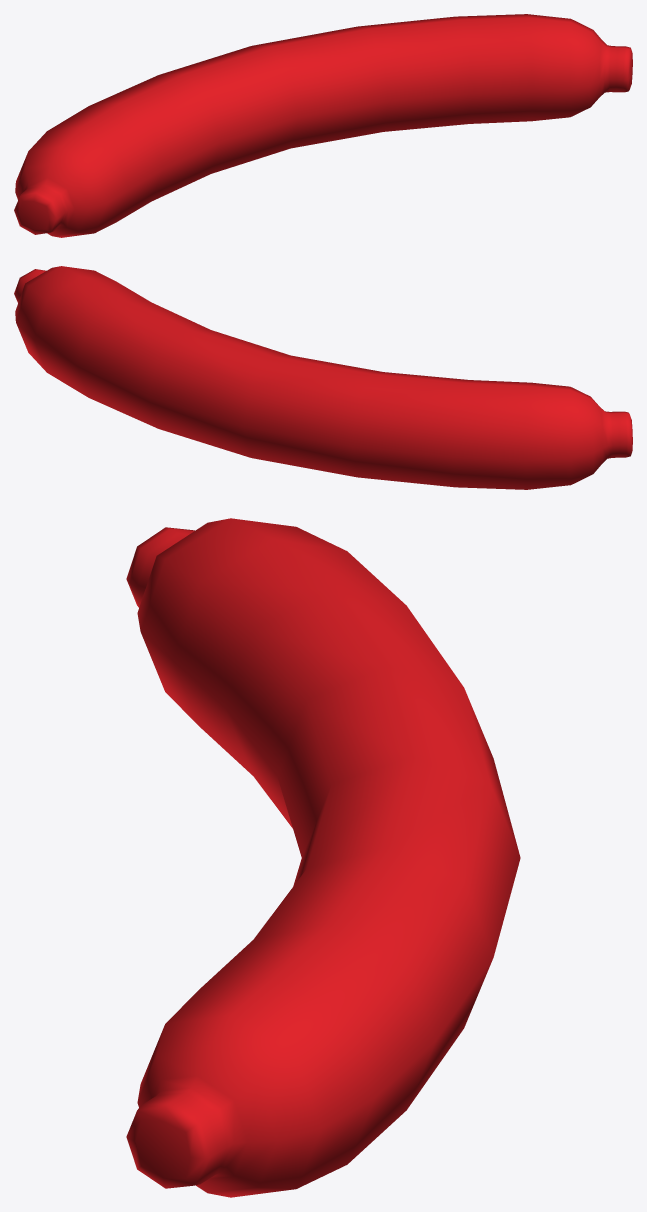
Rendered from LEGO Sausage.fbx.
The picture shows the model from 3 angles, top to bottom: view 1: azimuth 30°, elevation 25°; view 2: azimuth 150°, elevation 25°; view 3: azimuth 270°, elevation 25°; orthographic projection. The views are drawn at different scales.
Visible parts, largest first — view 1: Sausage; view 2: Sausage; view 3: Sausage.
Boxes of the visible parts, x1,y1,x2,y2 form: Sausage: (14,14,632,237); Sausage: (14,266,632,489); Sausage: (126,518,520,1197).
Size of the model in its own units: 67.07 by 18.55 by 10.48.
